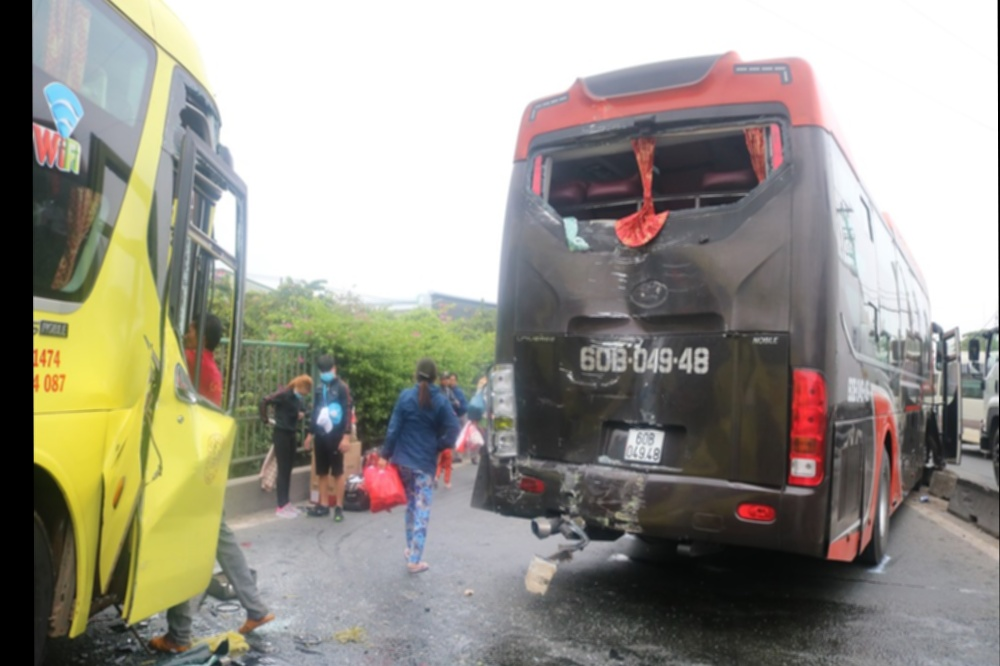Bien-so: (623, 426, 667, 464)
